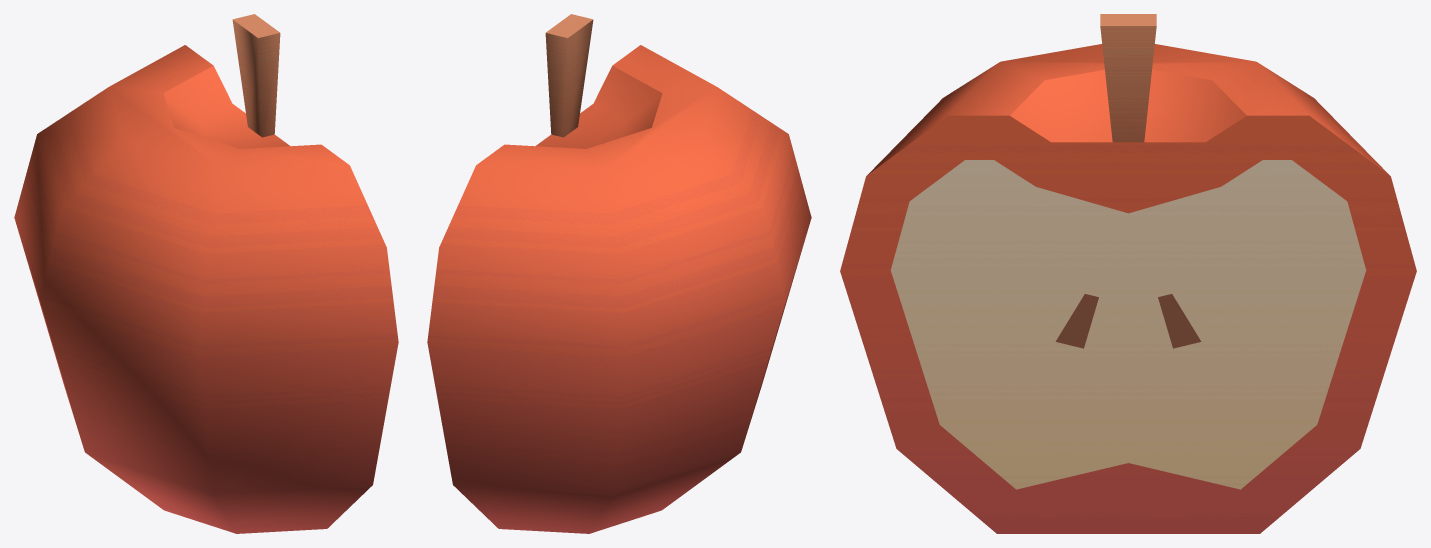
File: apple-half.glb
3 views of the same model, side by side, from view 1: azimuth 30°, elevation 25°; view 2: azimuth 150°, elevation 25°; view 3: azimuth 270°, elevation 25° (orthographic). The views are drawn at different scales.
Parts seen in each view (by area): view 1: apple-half; view 2: apple-half; view 3: apple-half.
Part boxes in pixels (bbox=[...]): apple-half: bbox=[14, 14, 398, 533]; apple-half: bbox=[427, 14, 811, 533]; apple-half: bbox=[840, 14, 1416, 533].
Size of the model in its own units: 0.0981 by 0.1908 by 0.1963.
1 material, 1 textured.
